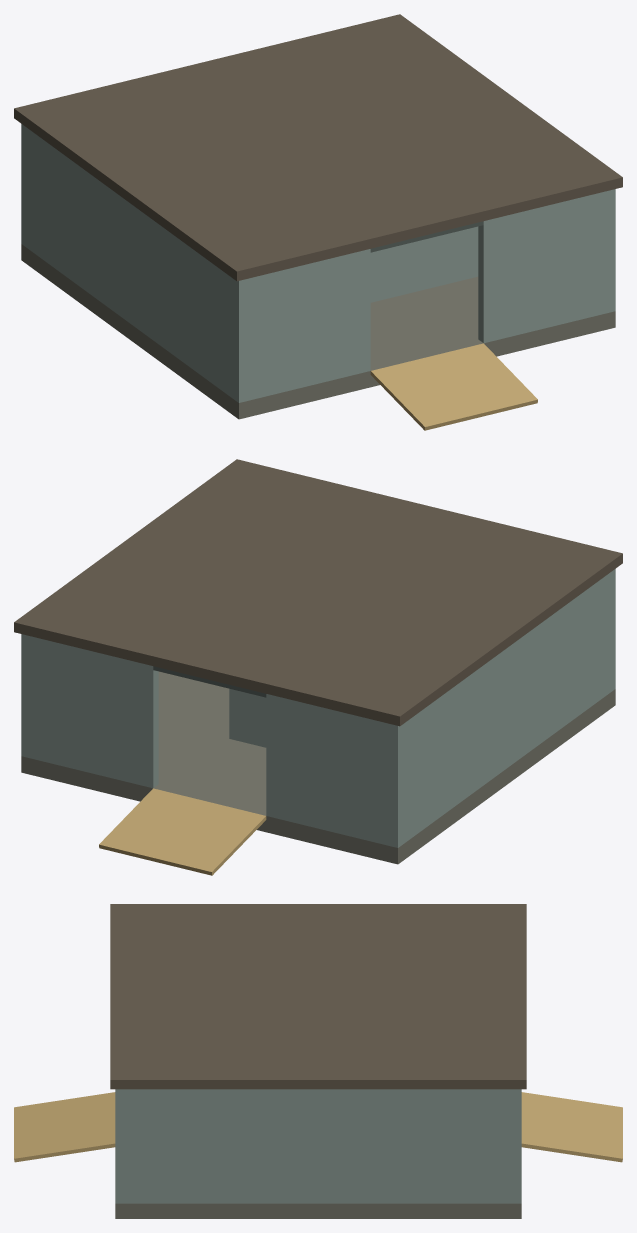
File: bent.glb
The picture shows the model from 3 angles, top to bottom: view 1: azimuth 30°, elevation 25°; view 2: azimuth 150°, elevation 25°; view 3: azimuth 270°, elevation 25°; orthographic projection. The views are drawn at different scales.
Visible parts, largest first — view 1: roof, wall_left, wall_front_R, floor, wall_front_L, ramp_front, partition_n, wall_right; view 2: roof, wall_left, floor, wall_back_R, wall_back_L, ramp_back, partition_s, wall_right; view 3: roof, wall_right, floor, ramp_back, ramp_front, wall_front_R.
Boxes of the visible parts, x1=… form: roof: x1=14, y1=14, x2=622, y2=281; wall_left: x1=21, y1=124, x2=248, y2=402; wall_front_R: x1=478, y1=189, x2=615, y2=343; floor: x1=21, y1=244, x2=615, y2=419; wall_front_L: x1=233, y1=249, x2=370, y2=402; ramp_front: x1=370, y1=343, x2=537, y2=430; partition_n: x1=370, y1=226, x2=478, y2=302; wall_right: x1=607, y1=189, x2=615, y2=311; roof: x1=14, y1=459, x2=622, y2=726; wall_left: x1=388, y1=569, x2=615, y2=847; floor: x1=21, y1=671, x2=615, y2=864; wall_back_R: x1=21, y1=635, x2=158, y2=788; wall_back_L: x1=266, y1=694, x2=401, y2=847; ramp_back: x1=99, y1=788, x2=266, y2=875; partition_s: x1=229, y1=688, x2=266, y2=747; wall_right: x1=21, y1=634, x2=30, y2=758; roof: x1=110, y1=904, x2=526, y2=1089; wall_right: x1=115, y1=1089, x2=521, y2=1203; floor: x1=115, y1=1203, x2=521, y2=1218; ramp_back: x1=521, y1=1092, x2=622, y2=1162; ramp_front: x1=14, y1=1092, x2=115, y2=1162; wall_front_R: x1=116, y1=1089, x2=125, y2=1203.
Bounding box in the file's own units: 12.3 × 4.72 × 18.
